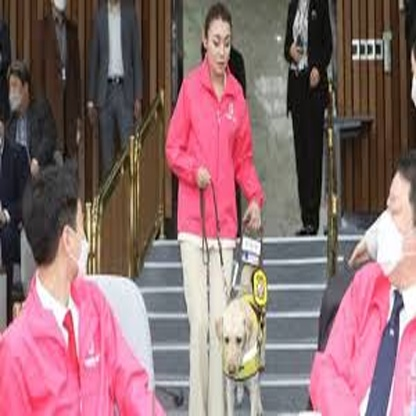guide-dog: (217, 264, 271, 414)
